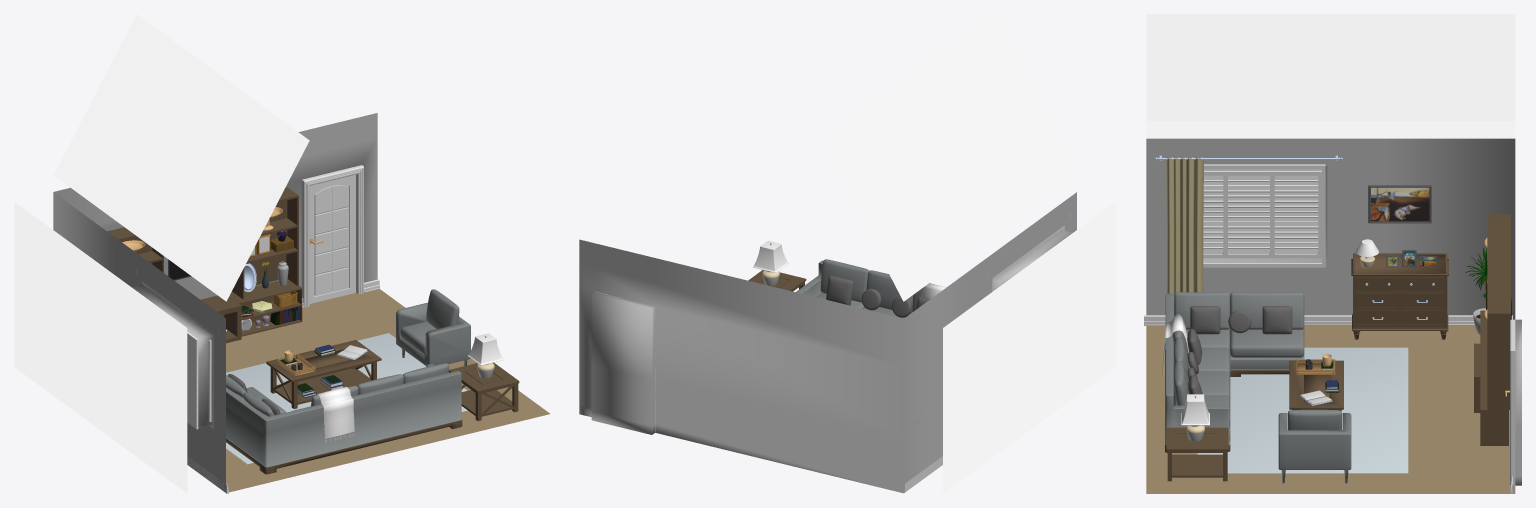
The model's file is Room.glb.
3 renders of one model, left to right at view 1: azimuth 30°, elevation 25°; view 2: azimuth 150°, elevation 25°; view 3: azimuth 270°, elevation 25°, orthographic. The views are drawn at different scales.
Parts seen in each view (by area): view 1: mesh light_2, mesh light_01, Low_Poly_Room, Couch_01, Floor, Door, Cube.018, Table, Carpet, Couch_02, Table_small, Cube.014 (+5 smaller); view 2: Low_Poly_Room, mesh light_2, mesh light_01, Cube.014, Lampadaire_01; view 3: mesh light_2, Low_Poly_Room, Floor, Carpet, Cube.014, Window, Cube.018, Windows_glass, mesh light_01, Sphere, Curtain, Couch_02 (+13 smaller).
Part boxes in pixels (bbox=[...]): mesh light_2: bbox=[54, 14, 309, 301]; mesh light_01: bbox=[14, 202, 187, 493]; Low_Poly_Room: bbox=[53, 113, 377, 492]; Couch_01: bbox=[226, 364, 462, 474]; Floor: bbox=[226, 289, 549, 492]; Door: bbox=[301, 165, 363, 307]; Cube.018: bbox=[107, 187, 302, 343]; Table: bbox=[266, 340, 381, 408]; Carpet: bbox=[226, 333, 467, 464]; Couch_02: bbox=[396, 302, 470, 365]; Table_small: bbox=[449, 362, 519, 420]; Cube.014: bbox=[226, 363, 448, 416]; Low_Poly_Room: bbox=[579, 192, 1076, 493]; mesh light_2: bbox=[820, 14, 1076, 301]; mesh light_01: bbox=[943, 202, 1115, 493]; Cube.014: bbox=[817, 259, 930, 318]; Lampadaire_01: bbox=[753, 240, 788, 285]; mesh light_2: bbox=[1146, 14, 1515, 120]; Low_Poly_Room: bbox=[1146, 138, 1521, 485]; Floor: bbox=[1146, 326, 1515, 493]; Carpet: bbox=[1197, 347, 1408, 473]; Cube.014: bbox=[1172, 292, 1304, 426]; Window: bbox=[1203, 164, 1325, 267]; Cube.018: bbox=[1474, 214, 1510, 445]; Windows_glass: bbox=[1203, 169, 1321, 253]; mesh light_01: bbox=[1146, 121, 1515, 138]; Sphere: bbox=[1352, 276, 1448, 339]; Curtain: bbox=[1166, 156, 1203, 293]; Couch_02: bbox=[1278, 413, 1351, 483].
Size of the model in its own units: 6.4 by 5.59 by 5.4.
63 materials, 10 textured.
